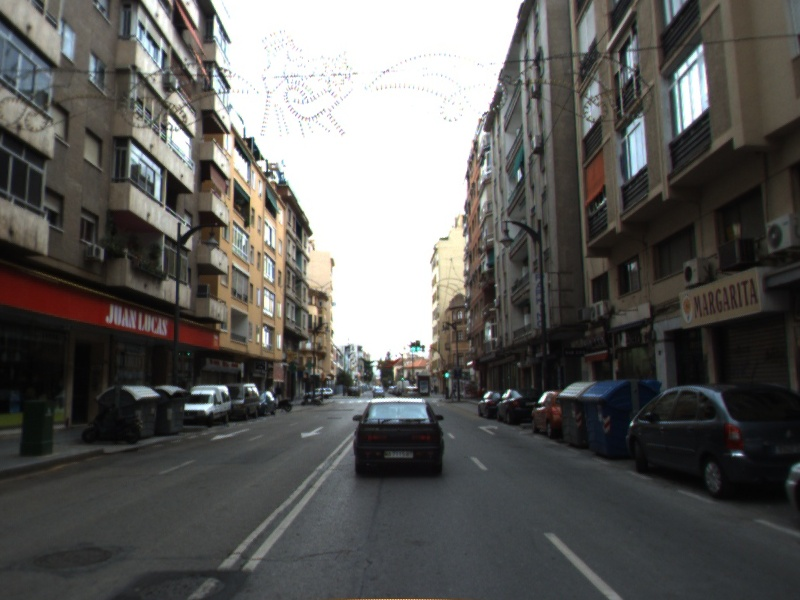RIGHT: (477, 423, 499, 436)
